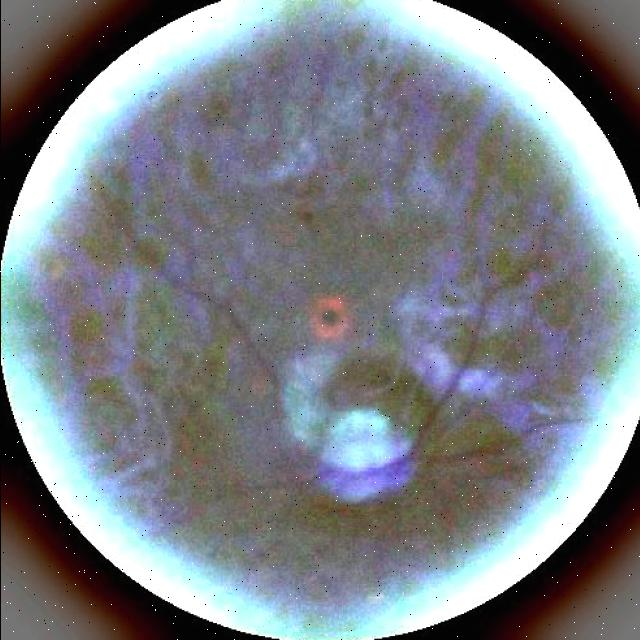Macula: (310, 297, 349, 341)
Optic Disk: (319, 411, 412, 503)
